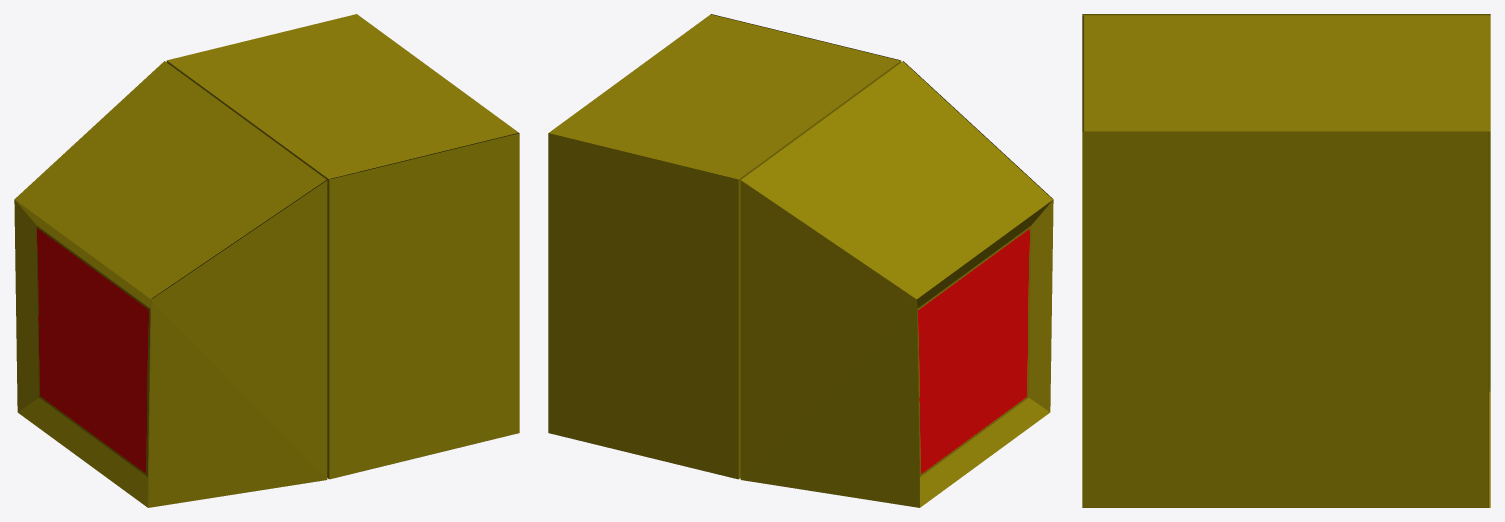
The model's file is Head.obj.
3 views of the same model, side by side, from view 1: azimuth 30°, elevation 25°; view 2: azimuth 150°, elevation 25°; view 3: azimuth 270°, elevation 25° (orthographic). The views are drawn at different scales.
Parts seen in each view (by area): view 1: Head; view 2: Head; view 3: Head.
Part boxes in pixels (bbox=[...]): Head: bbox=[14, 14, 519, 507]; Head: bbox=[548, 14, 1053, 507]; Head: bbox=[1082, 14, 1490, 507].
Bounding box in the file's own units: 0.4234 × 0.3416 × 0.3359.
1 material, 1 textured.
